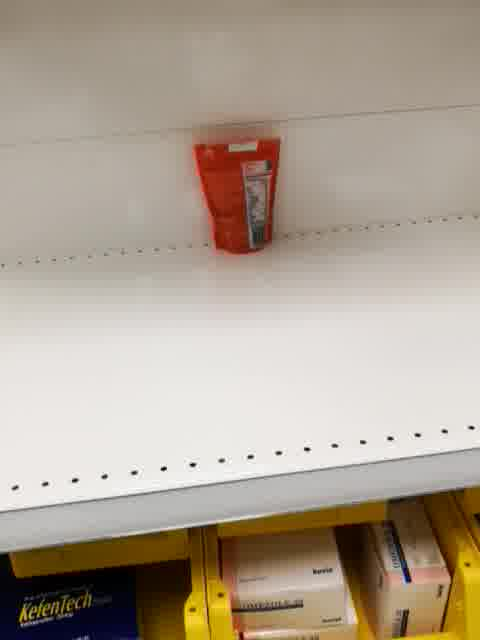whitechia: (192, 133, 287, 257)
